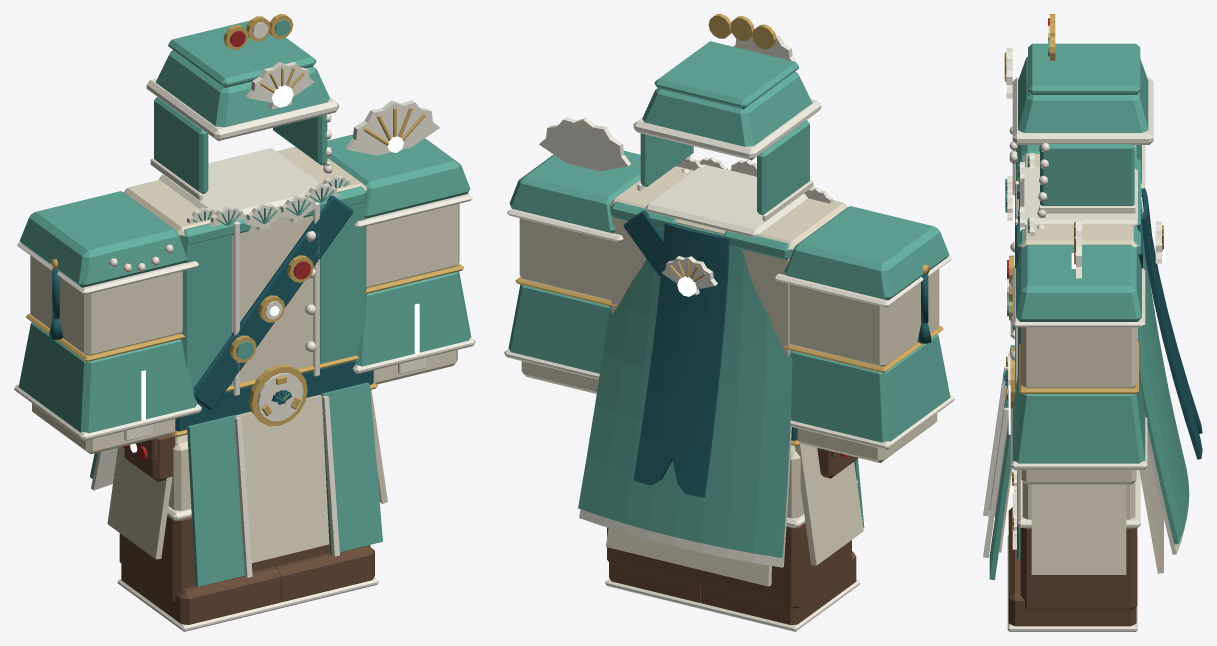
File: Envoy.fbx
3 views of the same model, side by side, from view 1: azimuth 30°, elevation 25°; view 2: azimuth 150°, elevation 25°; view 3: azimuth 270°, elevation 25° (orthographic). The views are drawn at different scales.
Visible parts, largest first — view 1: Armor_Envoy_Belt_RobeSway_Common, Armor_Envoy_Belt_MantleSway_Common, Armor_Envoy_Chest_Mantle_Common, Armor_Envoy_BracerR_Mantle_Common, Armor_Envoy_Chest_Robe_Common, Armor_Envoy_PauldronR_Mantle_Common, Armor_Envoy_Helm_Mantle_Common, Armor_Envoy_PauldronR_Robe_Common, Armor_Envoy_BracerL_Mantle_Common, Armor_Envoy_PauldronL_Mantle_Common, Armor_Envoy_PauldronL_Robe_Common, Armor_Envoy_Chest_Pearl_Uncommon (+29 smaller); view 2: Armor_Envoy_Chest_MantleSway_Common, Armor_Envoy_Chest_SashSway_Legendary, Armor_Envoy_Helm_Mantle_Common, Armor_Envoy_BracerR_Mantle_Common, Armor_Envoy_PauldronR_Mantle_Common, Armor_Envoy_PauldronR_Robe_Common, Armor_Envoy_Belt_RobeSway_Common, Armor_Envoy_Chest_Robe_Common, Armor_Envoy_BracerL_Mantle_Common, Armor_Envoy_PauldronL_Mantle_Common, Armor_Envoy_Chest_Pearl_Uncommon, Armor_Envoy_PauldronL_Robe_Common (+25 smaller); view 3: Armor_Envoy_Helm_Mantle_Common, Armor_Envoy_Belt_RobeSway_Common, Armor_Envoy_BracerL_Mantle_Common, Armor_Envoy_PauldronL_Mantle_Common, Armor_Envoy_PauldronL_Robe_Common, Armor_Envoy_Chest_MantleSway_Common, Armor_Envoy_Helm_Mantle_Uncommon, Armor_Envoy_GreaveL_Leather_Common, Armor_Envoy_Chest_SashSway_Legendary, Armor_Envoy_BootL_Leather_Common, Armor_Envoy_Helm_Pearl_Common, Armor_Envoy_Chest_Pearl_Uncommon (+17 smaller).
Boxes of the visible parts, x1,y1,x2,y2 form: Armor_Envoy_Belt_RobeSway_Common: (107, 389, 387, 562); Armor_Envoy_Belt_MantleSway_Common: (187, 382, 382, 586); Armor_Envoy_Chest_Mantle_Common: (125, 147, 366, 392); Armor_Envoy_BracerR_Mantle_Common: (18, 322, 197, 433); Armor_Envoy_Chest_Robe_Common: (124, 147, 366, 384); Armor_Envoy_PauldronR_Mantle_Common: (20, 191, 187, 287); Armor_Envoy_Helm_Mantle_Common: (155, 20, 329, 127); Armor_Envoy_PauldronR_Robe_Common: (30, 255, 182, 355); Armor_Envoy_BracerL_Mantle_Common: (355, 271, 471, 366); Armor_Envoy_PauldronL_Mantle_Common: (327, 134, 470, 218); Armor_Envoy_PauldronL_Robe_Common: (366, 203, 459, 287); Armor_Envoy_Chest_Pearl_Uncommon: (159, 148, 320, 352); Armor_Envoy_Chest_MantleSway_Common: (578, 223, 792, 557); Armor_Envoy_Chest_SashSway_Legendary: (633, 222, 729, 497); Armor_Envoy_Helm_Mantle_Common: (642, 41, 812, 146); Armor_Envoy_BracerR_Mantle_Common: (791, 334, 950, 442); Armor_Envoy_PauldronR_Mantle_Common: (784, 206, 949, 300); Armor_Envoy_PauldronR_Robe_Common: (789, 269, 939, 366); Armor_Envoy_Belt_RobeSway_Common: (606, 443, 863, 586); Armor_Envoy_Chest_Robe_Common: (610, 166, 847, 357); Armor_Envoy_BracerL_Mantle_Common: (508, 284, 610, 373); Armor_Envoy_PauldronL_Mantle_Common: (509, 150, 640, 233); Armor_Envoy_Chest_Pearl_Uncommon: (645, 164, 807, 237); Armor_Envoy_PauldronL_Robe_Common: (519, 218, 611, 300); Armor_Envoy_Helm_Mantle_Common: (1018, 43, 1148, 132); Armor_Envoy_Belt_RobeSway_Common: (995, 402, 1163, 574); Armor_Envoy_BracerL_Mantle_Common: (1012, 369, 1145, 463); Armor_Envoy_PauldronL_Mantle_Common: (1016, 244, 1141, 321); Armor_Envoy_PauldronL_Robe_Common: (1021, 327, 1136, 388); Armor_Envoy_Chest_MantleSway_Common: (1138, 191, 1189, 544); Armor_Envoy_Helm_Mantle_Uncommon: (1040, 144, 1134, 205); Armor_Envoy_GreaveL_Leather_Common: (1020, 528, 1137, 609); Armor_Envoy_Chest_SashSway_Legendary: (1141, 188, 1202, 459); Armor_Envoy_BootL_Leather_Common: (1008, 549, 1136, 626); Armor_Envoy_Helm_Pearl_Common: (1006, 48, 1153, 144); Armor_Envoy_Chest_Pearl_Uncommon: (1010, 167, 1137, 361).
Bounding box in the file's own units: 428 × 591 × 209.
